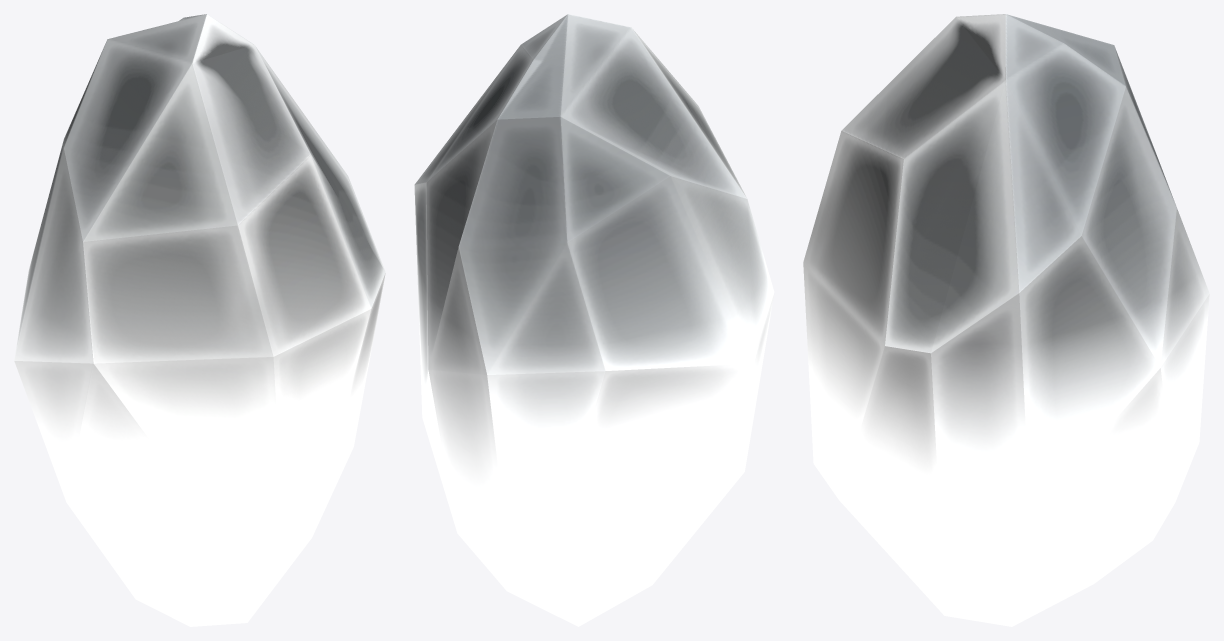
File: crystal_effect_white.fbx
3 renders of one model, left to right at view 1: azimuth 30°, elevation 25°; view 2: azimuth 150°, elevation 25°; view 3: azimuth 270°, elevation 25°, orthographic. The views are drawn at different scales.
Visible parts, largest first — view 1: crystal_effect_white; view 2: crystal_effect_white; view 3: crystal_effect_white.
Boxes of the visible parts, box(x1,y1,x2,y2) form: crystal_effect_white: box(14, 14, 385, 626); crystal_effect_white: box(414, 14, 774, 626); crystal_effect_white: box(803, 14, 1209, 626).
Bounding box in the file's own units: 3.13 × 5.43 × 3.23.
